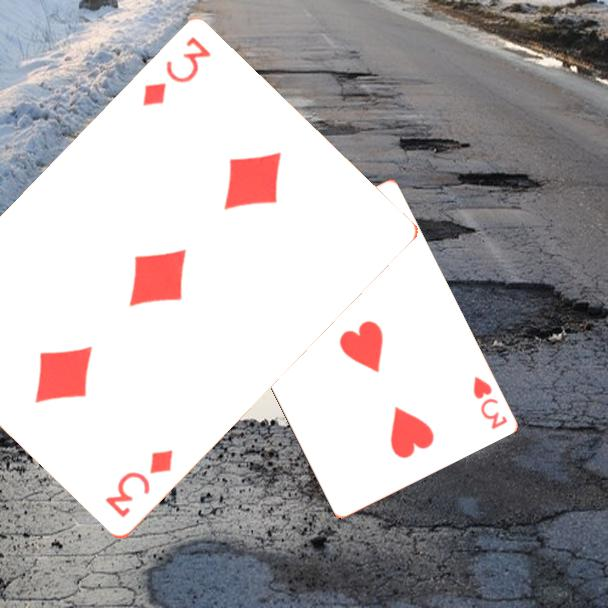d03: (101, 446, 177, 522), (138, 34, 214, 110)
h03: (469, 372, 510, 432)
